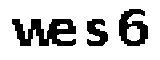6: (117, 8, 151, 47)
e: (48, 17, 80, 49)
s: (85, 16, 110, 51)
w: (9, 15, 52, 52)
